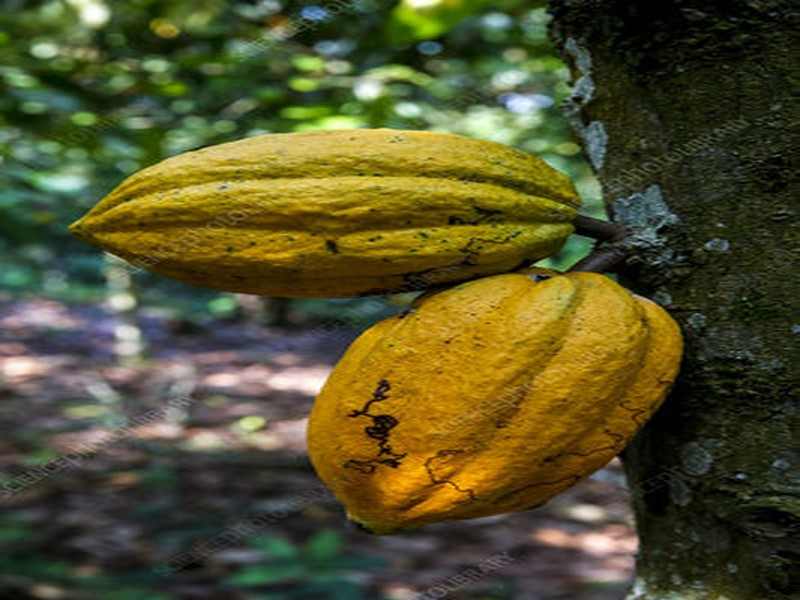Cacaopod: (308, 268, 682, 536), (66, 129, 595, 296)
